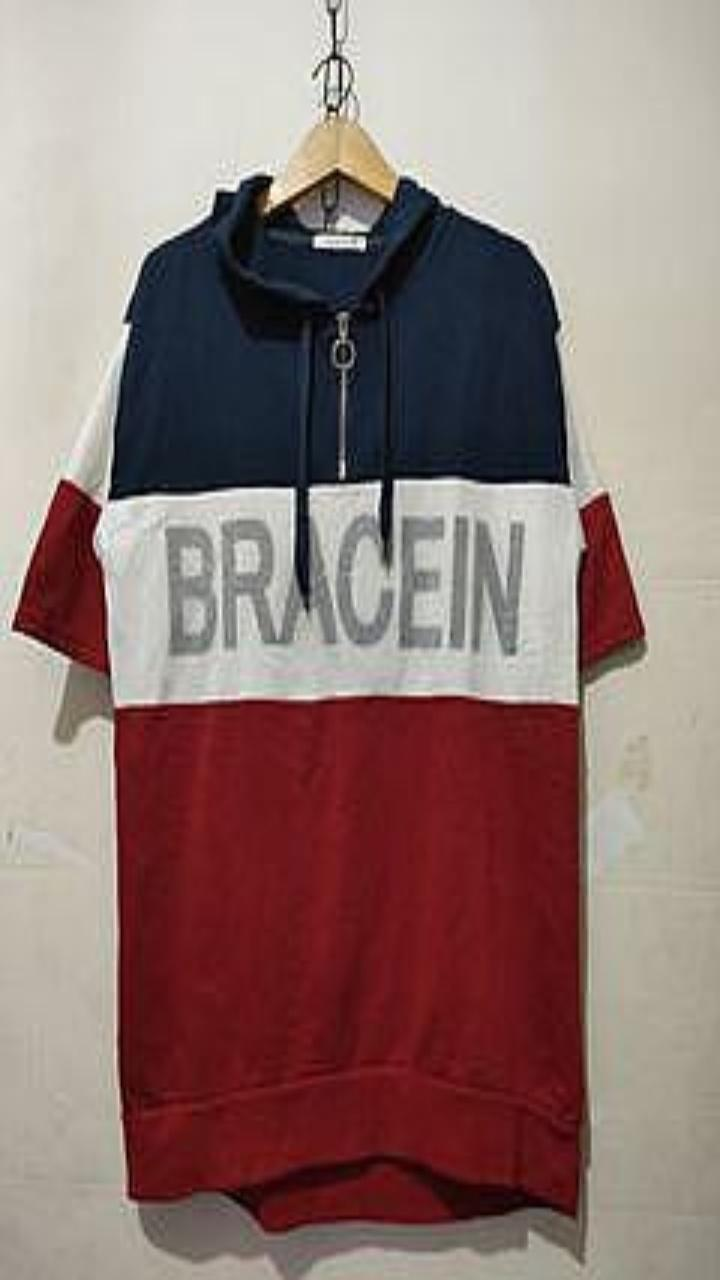Hoodie: (215, 173, 447, 607)
T-Shirt: (12, 173, 643, 1230)
